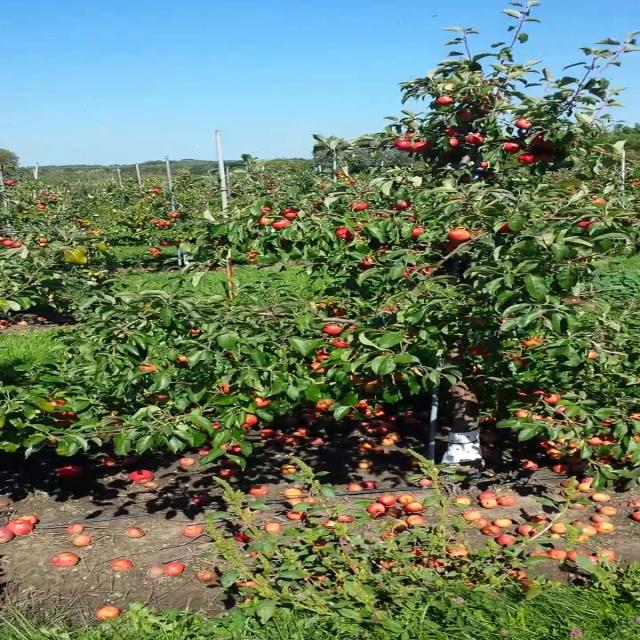apple: (586, 434, 618, 446), (448, 228, 474, 242), (55, 412, 77, 426), (534, 133, 552, 149), (515, 409, 542, 419), (364, 380, 385, 392), (242, 414, 258, 428), (444, 240, 462, 252), (413, 141, 431, 153), (323, 324, 342, 335), (392, 199, 412, 209), (337, 228, 355, 239), (542, 393, 561, 403), (274, 218, 292, 228), (394, 140, 412, 150), (502, 142, 518, 153), (516, 119, 532, 129), (520, 154, 537, 163), (524, 337, 543, 345), (349, 375, 370, 382), (254, 397, 270, 406), (282, 209, 298, 218), (465, 134, 483, 142), (318, 399, 332, 409), (411, 227, 425, 237), (352, 199, 366, 209), (438, 95, 453, 104), (261, 205, 274, 215), (140, 364, 156, 371), (328, 308, 342, 316), (592, 198, 606, 206), (449, 137, 460, 147), (47, 399, 65, 405), (461, 110, 471, 120), (629, 411, 639, 421), (332, 341, 348, 347), (501, 223, 511, 232), (153, 394, 167, 400), (403, 268, 413, 276), (260, 216, 270, 224), (589, 350, 599, 358), (445, 128, 458, 134), (316, 354, 328, 360), (579, 221, 591, 227), (540, 154, 552, 160), (361, 262, 371, 269), (405, 132, 415, 139), (513, 356, 524, 362), (558, 406, 566, 414), (471, 347, 480, 354), (222, 382, 228, 392), (386, 304, 396, 310), (555, 438, 565, 444), (394, 374, 402, 381), (419, 268, 433, 272), (532, 390, 546, 394), (212, 422, 220, 428), (311, 362, 319, 368), (409, 216, 416, 222), (190, 328, 200, 332), (480, 107, 486, 113), (604, 419, 610, 425), (480, 162, 487, 167), (570, 442, 577, 447), (178, 356, 186, 360), (314, 368, 322, 372), (518, 392, 526, 396), (635, 434, 639, 442), (349, 324, 356, 328), (110, 412, 116, 416), (111, 419, 119, 422), (318, 348, 324, 352), (483, 353, 489, 357), (318, 304, 322, 308), (328, 301, 332, 304), (628, 454, 631, 458)
